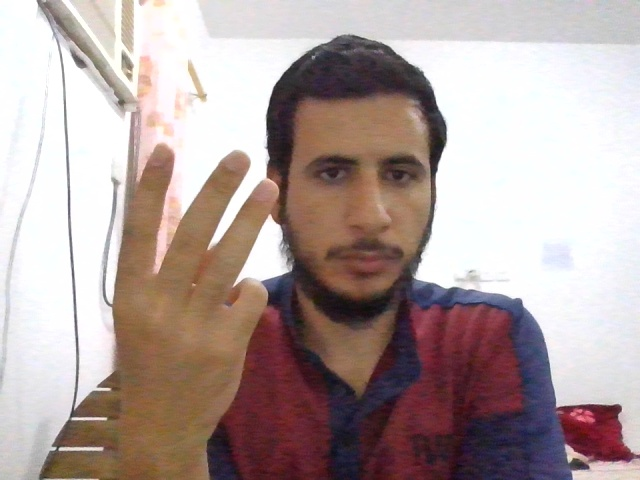Three: (112, 144, 279, 430)
